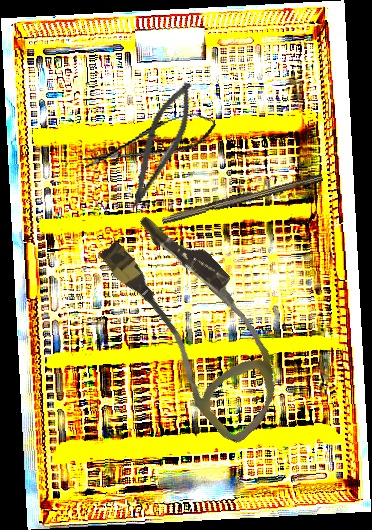Cannula: (77, 199, 317, 449)
Micro Scissor: (122, 75, 201, 217), (78, 107, 221, 177)
Scalpel Handle: (160, 169, 324, 227)
